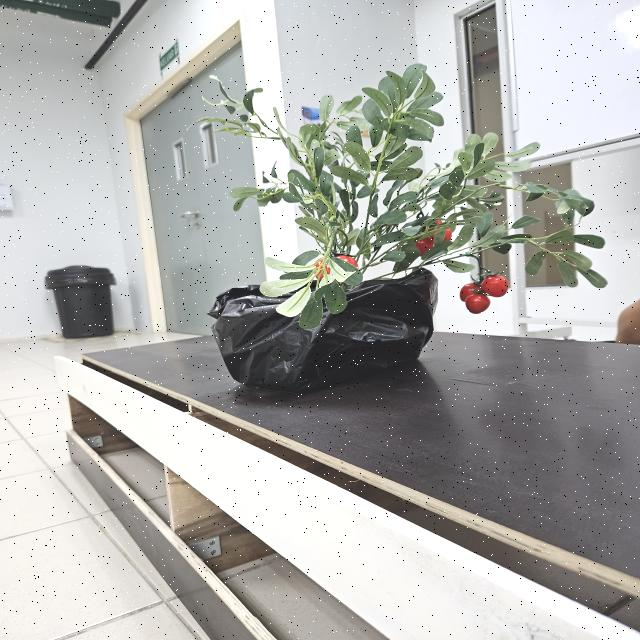Tomato: (459, 275, 511, 315), (314, 255, 359, 286), (417, 221, 452, 254)
plant: (193, 64, 608, 331)
